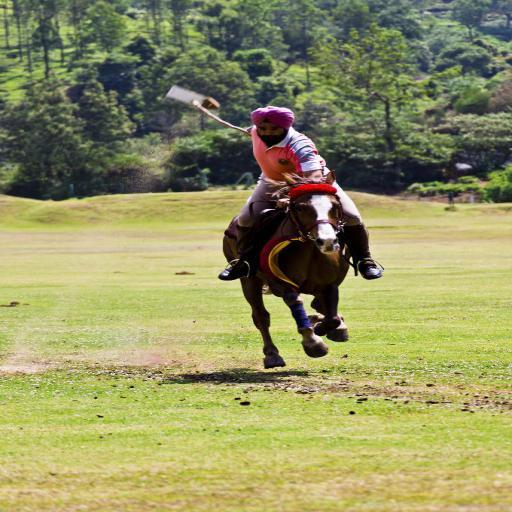horse: (218, 168, 378, 365)
